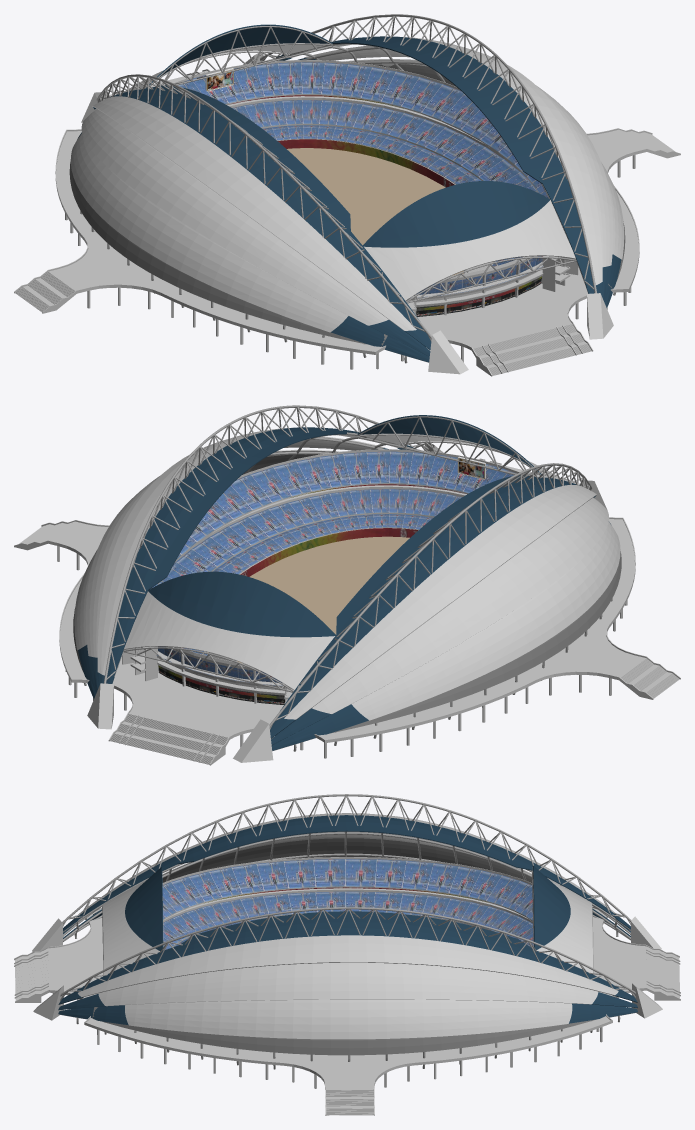
Rendered from tyg100x100.fbx.
3 renders of one model, top to bottom at view 1: azimuth 30°, elevation 25°; view 2: azimuth 150°, elevation 25°; view 3: azimuth 270°, elevation 25°, orthographic. The views are drawn at different scales.
Visible parts, largest first — view 1: 体育馆建筑外墙002, 体育馆窗户002, 体育馆看台002, 体育馆002, tyg_dimian, 体育馆框架002, Obj3d66-11425709-143-216, 体育馆其他008, 体育馆其他009, 体育馆其他007, 体育馆广告牌002; view 2: 体育馆建筑外墙002, 体育馆窗户002, 体育馆看台002, 体育馆002, tyg_dimian, 体育馆框架002, Obj3d66-11425709-143-216, 体育馆其他008, 体育馆其他009, 体育馆其他007, 体育馆广告牌002; view 3: 体育馆建筑外墙002, 体育馆窗户002, 体育馆看台002, 体育馆框架002, tyg_dimian, 体育馆002, 体育馆其他008.
Boxes of the visible parts, bbox=[...] form: 体育馆建筑外墙002: bbox=[70, 36, 624, 374]; 体育馆窗户002: bbox=[77, 24, 621, 362]; 体育馆看台002: bbox=[178, 62, 548, 297]; 体育馆002: bbox=[14, 60, 680, 376]; tyg_dimian: bbox=[49, 130, 644, 351]; 体育馆框架002: bbox=[80, 14, 615, 363]; Obj3d66-11425709-143-216: bbox=[287, 148, 492, 275]; 体育馆其他008: bbox=[69, 64, 625, 346]; 体育馆其他009: bbox=[227, 95, 454, 187]; 体育馆其他007: bbox=[416, 276, 541, 316]; 体育馆广告牌002: bbox=[205, 68, 491, 273]; 体育馆建筑外墙002: bbox=[74, 427, 620, 762]; 体育馆窗户002: bbox=[78, 415, 610, 750]; 体育馆看台002: bbox=[151, 451, 514, 685]; 体育馆002: bbox=[14, 449, 680, 765]; tyg_dimian: bbox=[50, 519, 645, 739]; 体育馆框架002: bbox=[84, 405, 612, 751]; Obj3d66-11425709-143-216: bbox=[207, 536, 409, 663]; 体育馆其他008: bbox=[73, 454, 621, 733]; 体育馆其他009: bbox=[240, 484, 467, 576]; 体育馆其他007: bbox=[158, 665, 284, 704]; 体育馆广告牌002: bbox=[209, 456, 485, 661]; 体育馆建筑外墙002: bbox=[32, 813, 662, 1039]; 体育馆窗户002: bbox=[58, 815, 637, 1025]; 体育馆看台002: bbox=[162, 859, 533, 949]; 体育馆框架002: bbox=[59, 794, 636, 1069]; tyg_dimian: bbox=[48, 908, 646, 1089]; 体育馆002: bbox=[14, 857, 680, 1115]; 体育馆其他008: bbox=[92, 838, 596, 1055].
Size of the model in its own units: 68.41 by 16.12 by 71.08.
